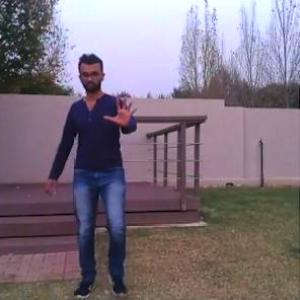follow_hand: (101, 91, 142, 130)
